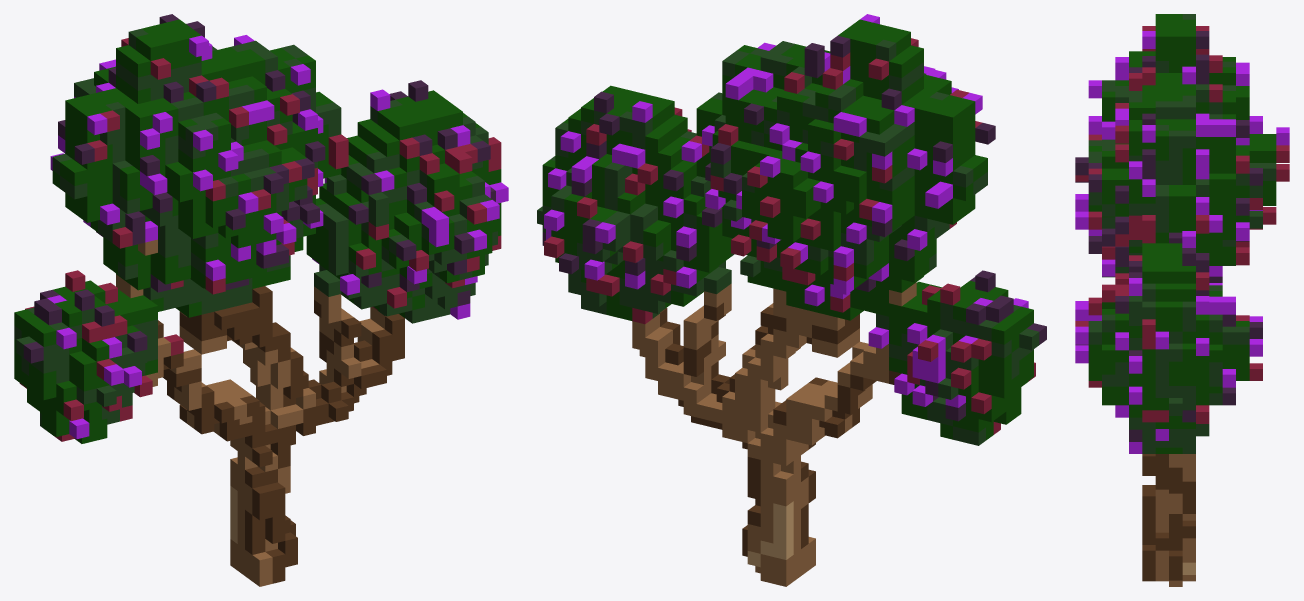
File: Susan_Michelle_Doblado_Torres_fase_3.obj
The picture shows the model from 3 angles, left to right: view 1: azimuth 30°, elevation 25°; view 2: azimuth 150°, elevation 25°; view 3: azimuth 270°, elevation 25°; orthographic projection. The views are drawn at different scales.
Visible parts, largest first — view 1: Susan_Michelle_Doblado_Torres_fase_3; view 2: Susan_Michelle_Doblado_Torres_fase_3; view 3: Susan_Michelle_Doblado_Torres_fase_3.
Part boxes in pixels (<box>): Susan_Michelle_Doblado_Torres_fase_3: <box>14,14,508,586</box>; Susan_Michelle_Doblado_Torres_fase_3: <box>537,14,1046,586</box>; Susan_Michelle_Doblado_Torres_fase_3: <box>1075,14,1289,586</box>.
Size of the model in its own units: 38 by 42 by 16.
Materials: 1 (1 with a texture image).
